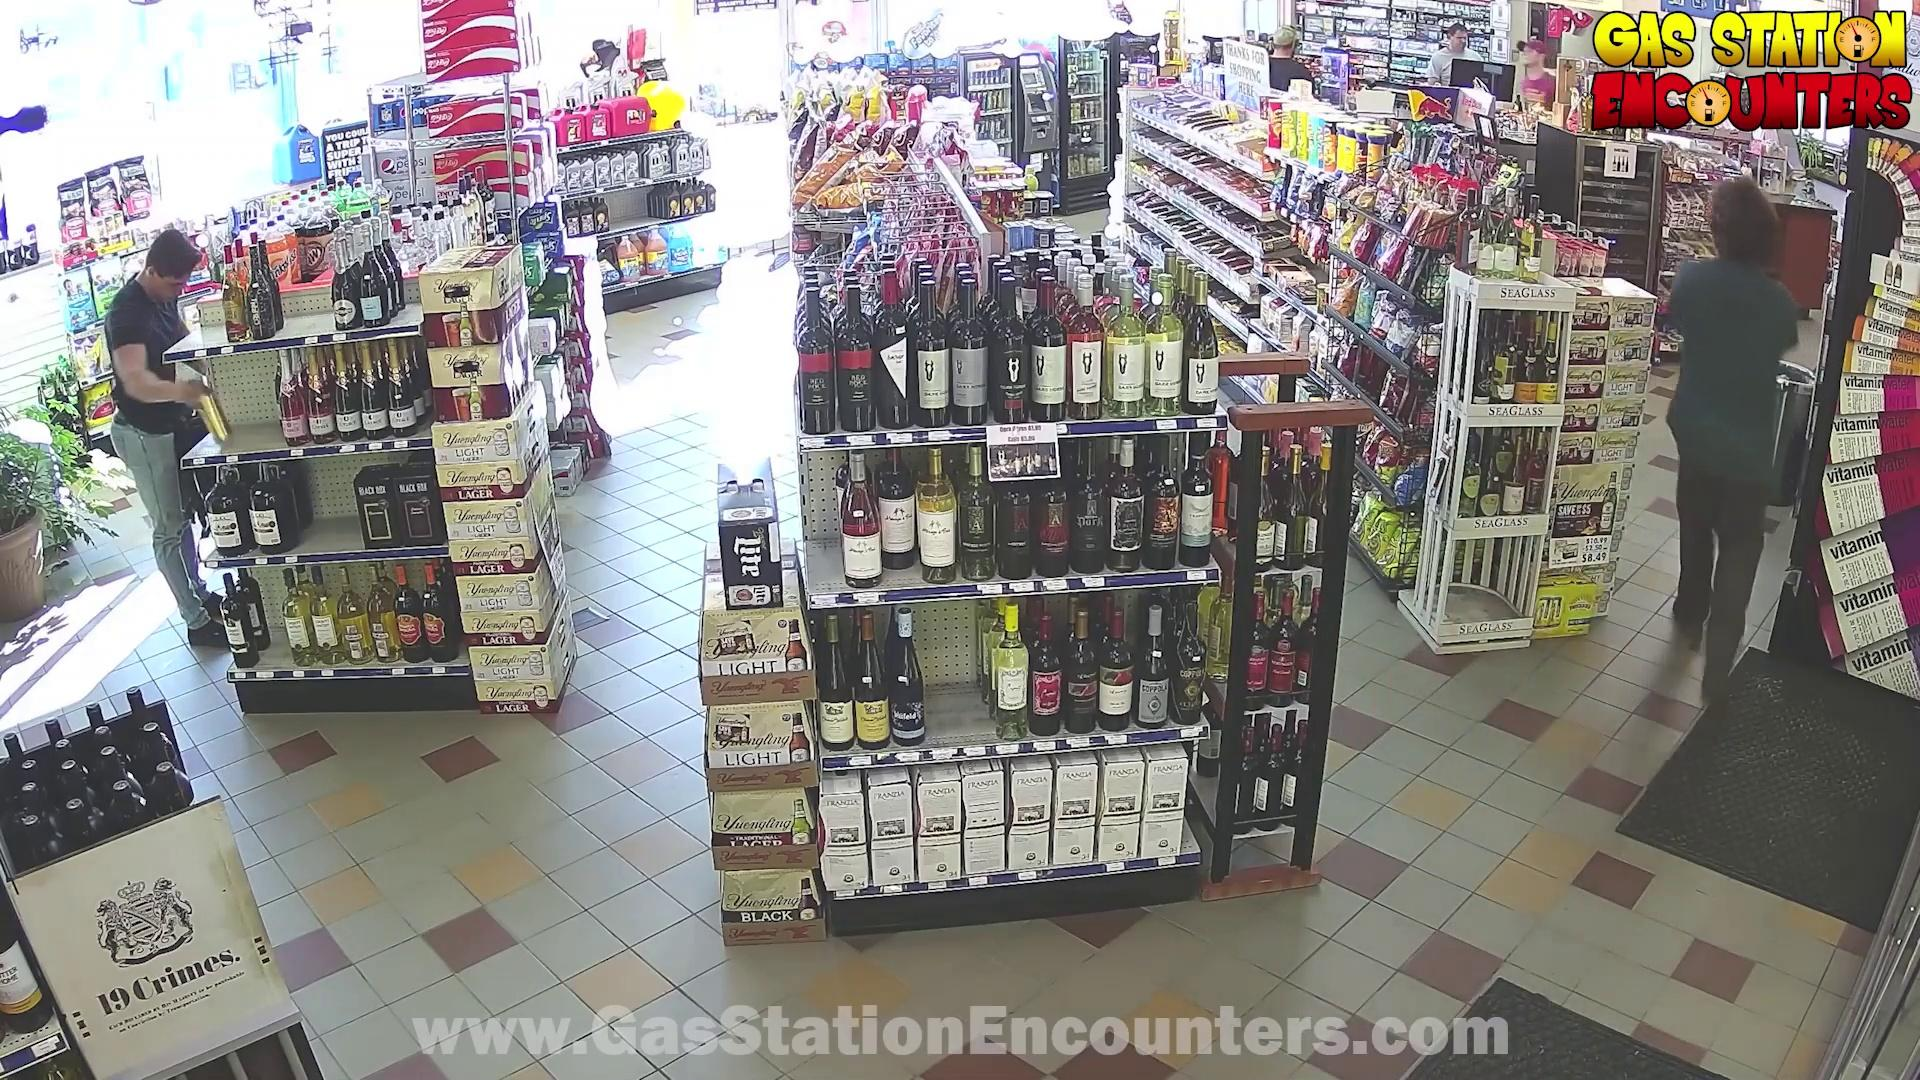1: (186, 376, 245, 454)
2: (11, 162, 255, 695)
3: (1578, 160, 1916, 748), (1390, 15, 1487, 95)
persone: (152, 423, 220, 484)
